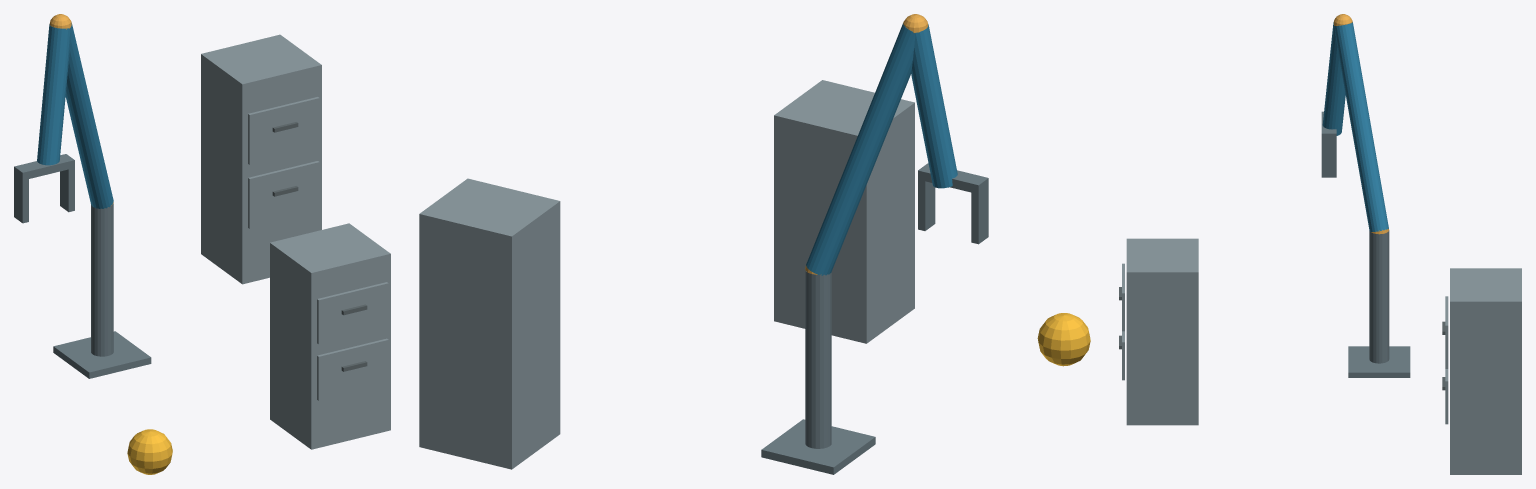
3 renders of one model, left to right at view 1: azimuth 30°, elevation 25°; view 2: azimuth 150°, elevation 25°; view 3: azimuth 270°, elevation 25°, orthographic. The views are drawn at different scales.
Parts seen in each view (by area): view 1: cabinet_2 body, cabinet_1 body, cabinet_2 drawer front.001, cabinet_2 drawer front, moving link 1, fixed post, cabinet_1 drawer front, cabinet_1 drawer front.001, moving link 2, pedestal, ball ball_1, gripper bridge (+2 smaller); view 2: cabinet_2 body, cabinet_1 body, moving link 1, fixed post, moving link 2, pedestal, ball ball_1, gripper finger -1, gripper finger 1, gripper bridge; view 3: cabinet_2 body, cabinet_1 body, moving link 1, fixed post, pedestal, moving link 2, gripper finger 1.
Part boxes in pixels (x1=…): cabinet_2 body: x1=201, y1=34, x2=321, y2=284; cabinet_1 body: x1=270, y1=223, x2=390, y2=449; cabinet_2 drawer front.001: x1=248, y1=97, x2=319, y2=164; cabinet_2 drawer front: x1=248, y1=161, x2=319, y2=228; moving link 1: x1=65, y1=23, x2=113, y2=208; fixed post: x1=91, y1=203, x2=113, y2=356; cabinet_1 drawer front: x1=317, y1=338, x2=388, y2=400; cabinet_1 drawer front.001: x1=317, y1=282, x2=388, y2=344; moving link 2: x1=37, y1=24, x2=70, y2=165; pedestal: x1=53, y1=331, x2=151, y2=378; ball ball_1: x1=127, y1=429, x2=172, y2=474; gripper bridge: x1=14, y1=154, x2=74, y2=180; cabinet_2 body: x1=419, y1=178, x2=560, y2=469; cabinet_1 body: x1=774, y1=80, x2=914, y2=343; moving link 1: x1=806, y1=23, x2=915, y2=275; fixed post: x1=805, y1=270, x2=831, y2=448; moving link 2: x1=911, y1=24, x2=957, y2=188; pedestal: x1=761, y1=419, x2=875, y2=474; ball ball_1: x1=1037, y1=313, x2=1090, y2=366; gripper finger -1: x1=971, y1=187, x2=988, y2=244; gripper finger 1: x1=918, y1=179, x2=935, y2=230; gripper bridge: x1=918, y1=163, x2=988, y2=194; cabinet_2 body: x1=1450, y1=268, x2=1521, y2=474; cabinet_1 body: x1=1126, y1=238, x2=1198, y2=425; moving link 1: x1=1334, y1=22, x2=1388, y2=231; fixed post: x1=1369, y1=230, x2=1389, y2=363; pedestal: x1=1348, y1=346, x2=1410, y2=377; moving link 2: x1=1322, y1=22, x2=1345, y2=135; gripper finger 1: x1=1321, y1=140, x2=1336, y2=177.
Size of the model in its own units: 1.5 by 1.44 by 1.62.
